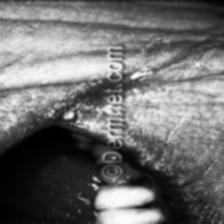Toxin: (45, 76, 103, 120), (129, 60, 159, 90)
